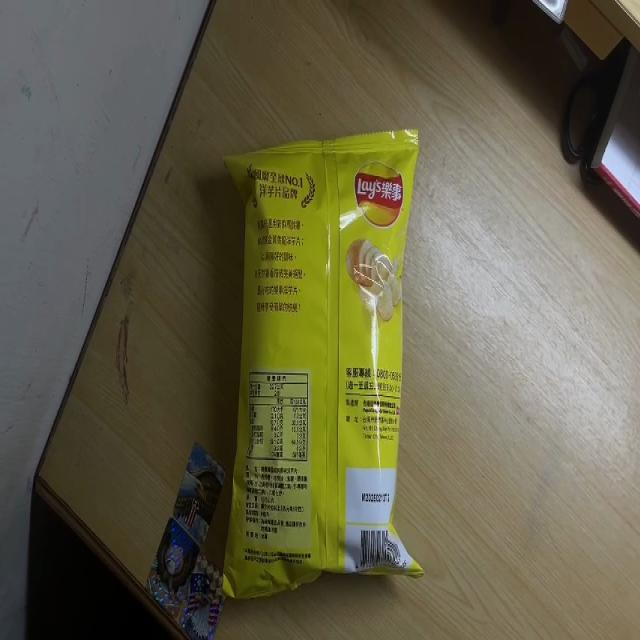Lay-s-original: (215, 127, 424, 600)
